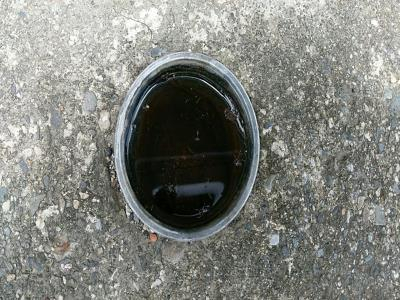bucket: (112, 50, 264, 245)
